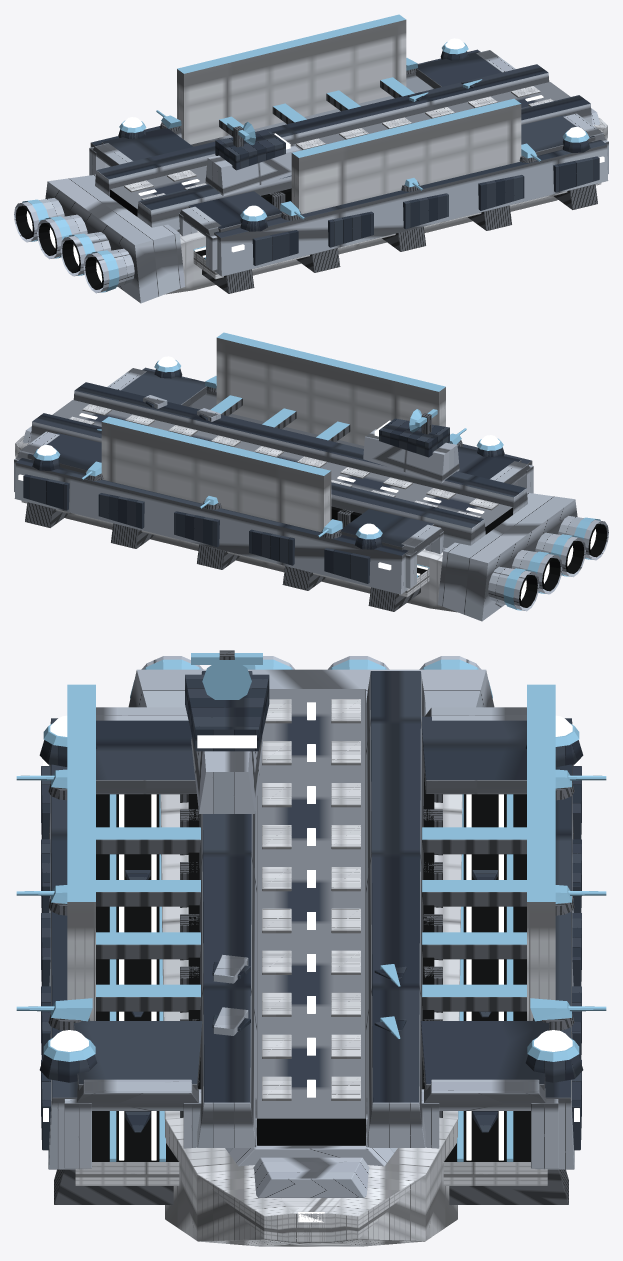
Rendered from carrier.glb.
3 renders of one model, top to bottom at view 1: azimuth 30°, elevation 25°; view 2: azimuth 150°, elevation 25°; view 3: azimuth 270°, elevation 25°, orthographic. The views are drawn at different scales.
Parts seen in each view (by area): view 1: hull_body, engine_block, sensor_island, shield_domes, weapon_turrets; view 2: hull_body, engine_block, sensor_island, shield_domes, weapon_turrets; view 3: hull_body, sensor_island, engine_block, shield_domes, weapon_turrets.
Boxes of the visible parts, left/top/right/bottom form: hull_body: left=89, top=14, right=608, bottom=294; engine_block: left=14, top=174, right=185, bottom=303; sensor_island: left=205, top=122, right=300, bottom=196; shield_domes: left=118, top=38, right=590, bottom=231; weapon_turrets: left=156, top=58, right=541, bottom=220; hull_body: left=14, top=332, right=533, bottom=612; engine_block: left=437, top=492, right=608, bottom=621; sensor_island: left=363, top=409, right=459, bottom=483; shield_domes: left=32, top=356, right=504, bottom=549; weapon_turrets: left=81, top=376, right=466, bottom=538; hull_body: left=41, top=671, right=581, bottom=1246; sensor_island: left=185, top=650, right=269, bottom=813; engine_block: left=128, top=656, right=494, bottom=714; shield_domes: left=39, top=715, right=583, bottom=1082; weapon_turrets: left=16, top=769, right=606, bottom=1030.
Size of the model in its own units: 55 by 13.7 by 26.14.
Materials: 1 (1 with a texture image).
